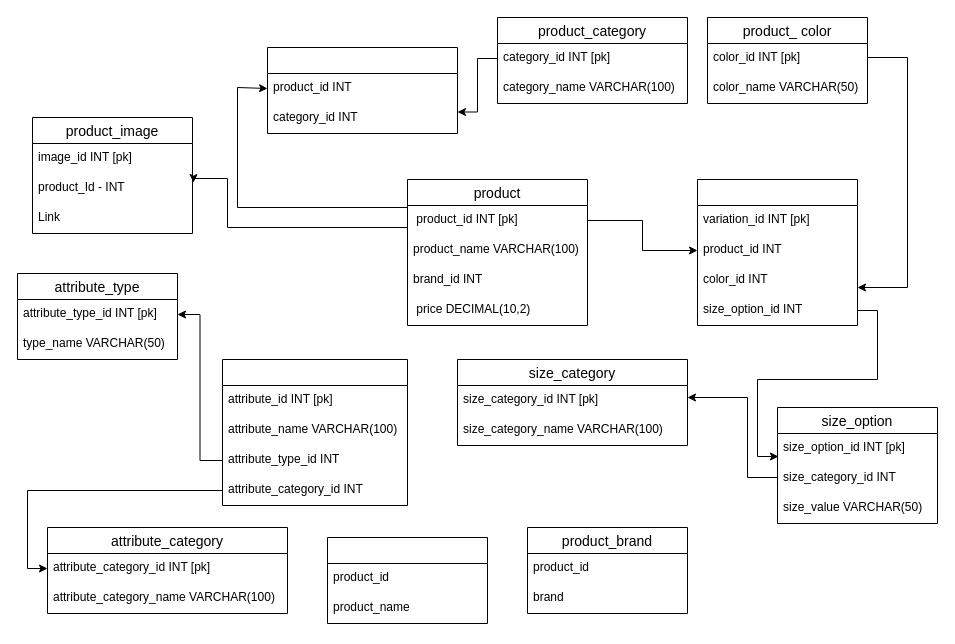
The diagram is 955 pixels wide and 644 high, and some of its shapes have lost their labels. Here are the shapes that lost their labels. From the top down, the box of each, then its label:
(266, 46, 458, 134): product_category_link
(696, 178, 858, 326): product_variation
(222, 358, 408, 506): product_attribute
(326, 536, 488, 624): product_item
